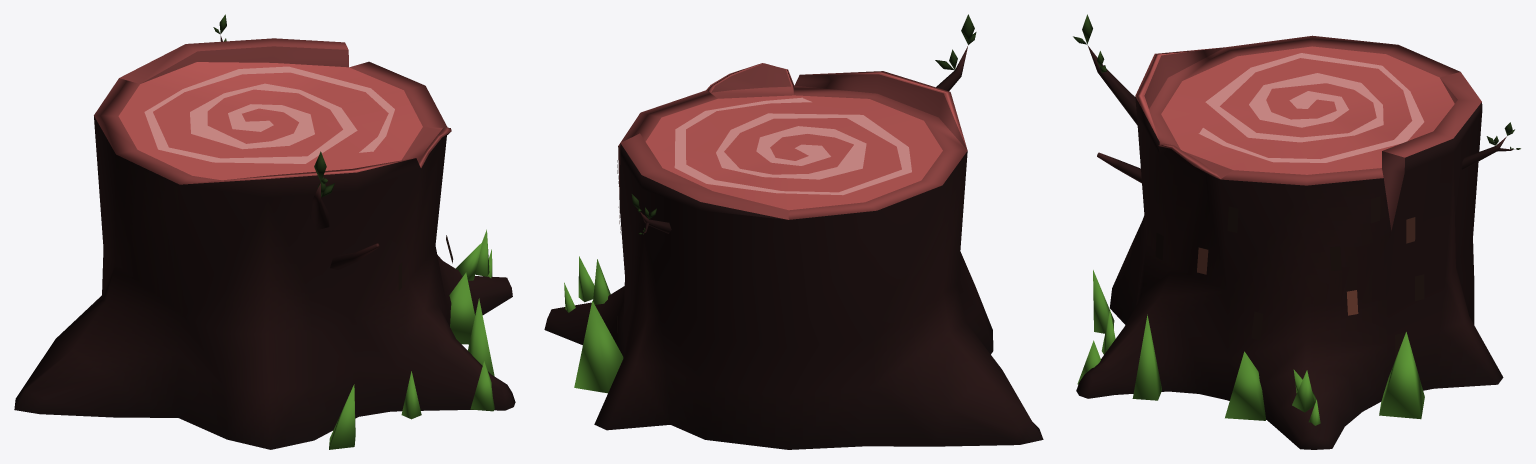
Rendered from Stump_Oak.fbx.
3 views of the same model, side by side, from view 1: azimuth 30°, elevation 25°; view 2: azimuth 150°, elevation 25°; view 3: azimuth 270°, elevation 25° (orthographic). The views are drawn at different scales.
Parts seen in each view (by area): view 1: Stump_Oak; view 2: Stump_Oak; view 3: Stump_Oak.
Boxes of the visible parts, box(x1,y1,x2,y2) form: Stump_Oak: box(14, 14, 515, 449); Stump_Oak: box(544, 14, 1043, 449); Stump_Oak: box(1073, 14, 1520, 449).
Size of the model in its own units: 3.38 by 2.01 by 2.73.
